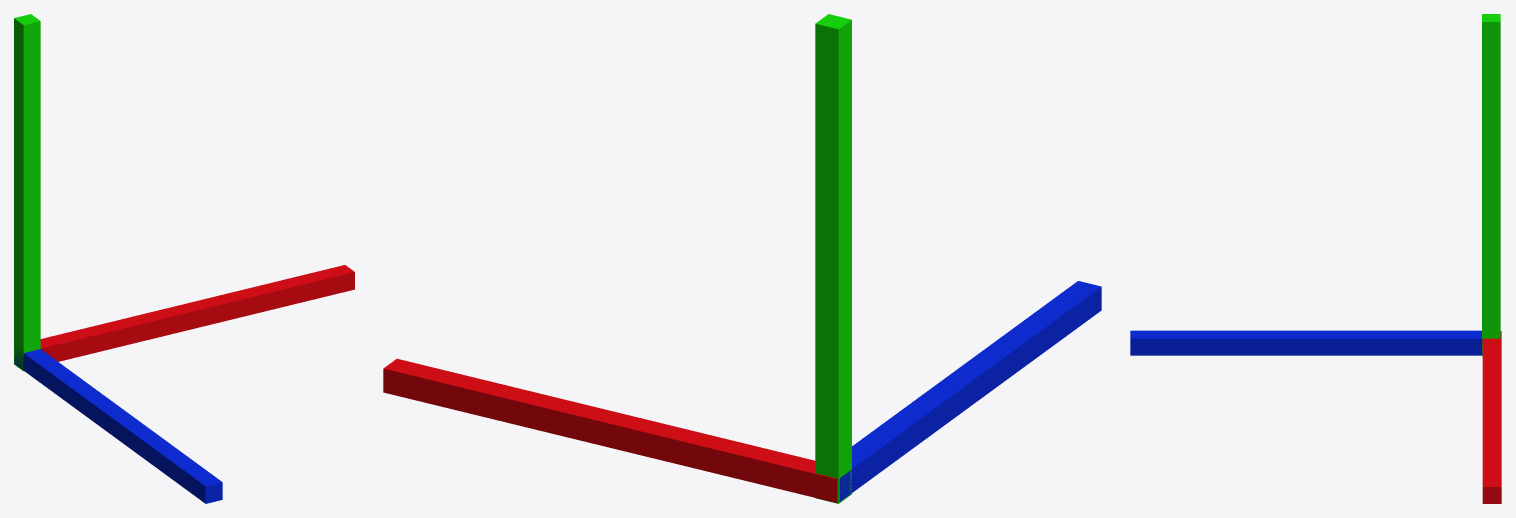
Rendered from axes.glb.
3 renders of one model, left to right at view 1: azimuth 30°, elevation 25°; view 2: azimuth 150°, elevation 25°; view 3: azimuth 270°, elevation 25°, orthographic. The views are drawn at different scales.
Visible parts, largest first — view 1: Cube; view 2: Cube; view 3: Cube.
Boxes of the visible parts, x1,y1,x2,y2 form: Cube: (14, 14, 354, 503); Cube: (383, 14, 1101, 503); Cube: (1130, 14, 1501, 503).
Bounding box in the file's own units: 4.22 × 4.21 × 4.24.
